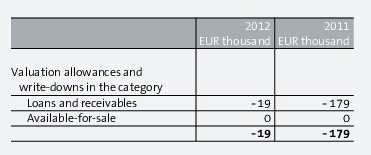table: (0, 0, 371, 155)
